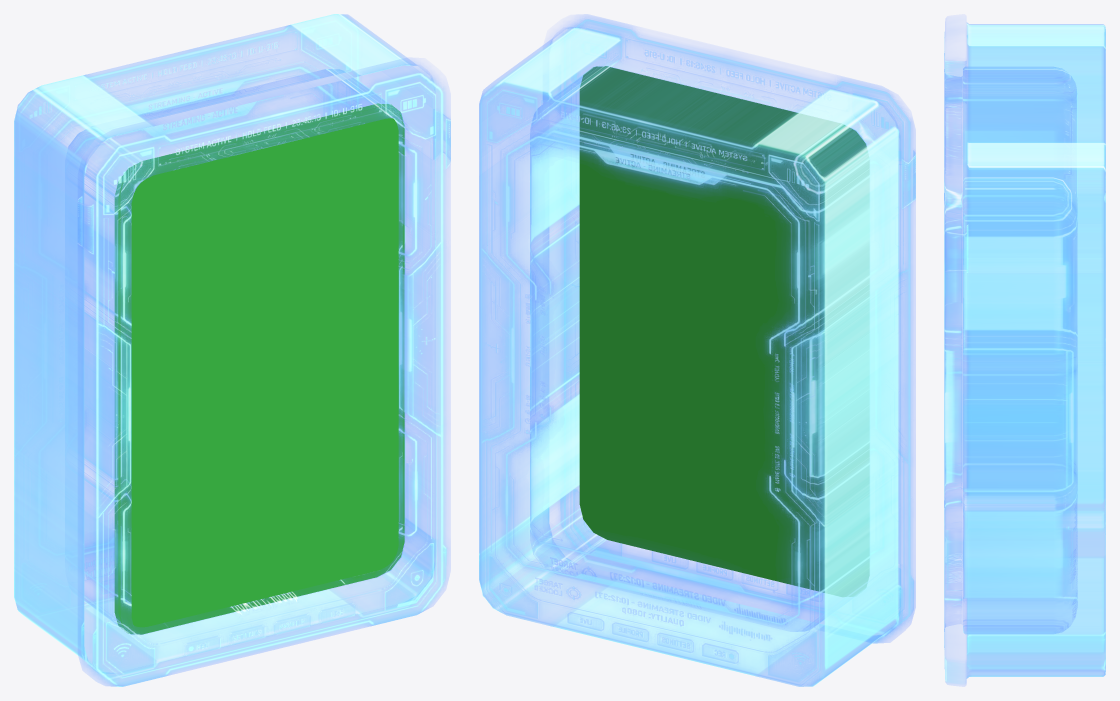
3 views of the same model, side by side, from view 1: azimuth 30°, elevation 25°; view 2: azimuth 150°, elevation 25°; view 3: azimuth 270°, elevation 25° (orthographic). The views are drawn at different scales.
Parts seen in each view (by area): view 1: d1_low, d1_mattscreen; view 2: d1_low, d1_mattscreen; view 3: d1_low.
Part boxes in pixels (box(x1,y1,x2,y2)): d1_low: box(14, 14, 450, 686); d1_mattscreen: box(114, 103, 404, 634); d1_low: box(479, 14, 915, 686); d1_mattscreen: box(579, 66, 868, 596); d1_low: box(944, 17, 1105, 686).
Size of the model in its own units: 0.789 by 1.14 by 0.3156.
Materials: 2 (1 with a texture image).
